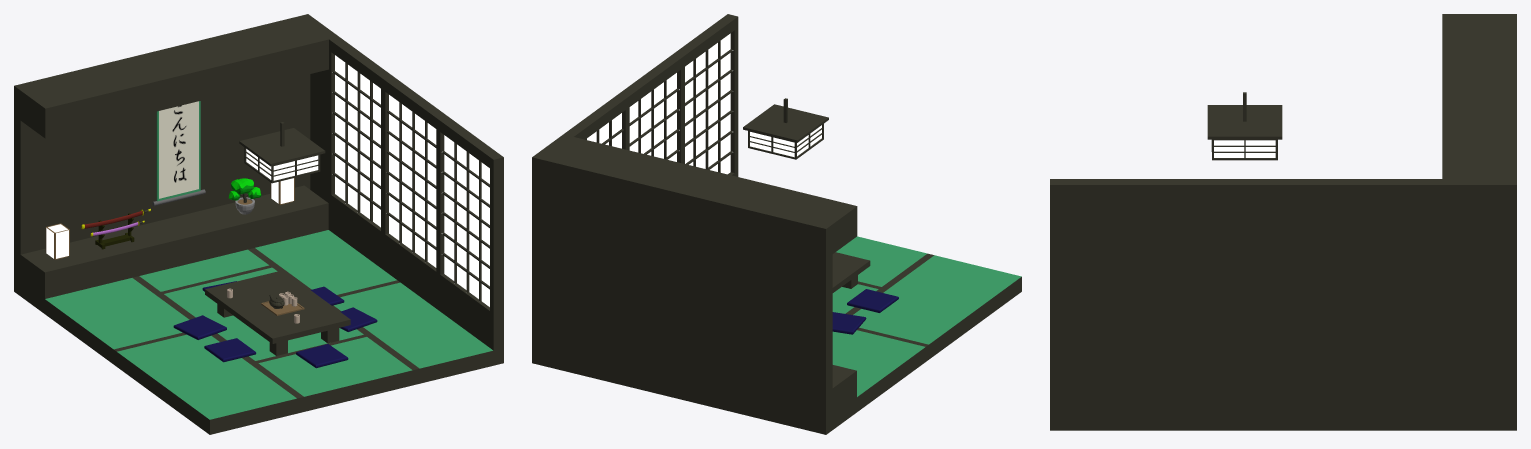
The model's file is japanese room.glb.
3 renders of one model, left to right at view 1: azimuth 30°, elevation 25°; view 2: azimuth 150°, elevation 25°; view 3: azimuth 270°, elevation 25°, orthographic. The views are drawn at different scales.
Parts seen in each view (by area): view 1: Plane.010, Plane.013_Plane.014, Plane.008, Plane, Plane.001, Plane.011, Cube.003_Cube.005, Plane.009, Cube.001_Cube.003, Plane.002, Plane.003, Plane.007 (+3 smaller); view 2: Plane, Plane.013_Plane.014, Plane.008, Plane.010, Cube.003_Cube.005, Plane.001, Plane.003, Plane.002; view 3: Plane, Plane.010, Cube.003_Cube.005.
Part boxes in pixels (x1,y1,x2,y2): Plane.010: (20, 21, 328, 298); Plane.013_Plane.014: (45, 230, 492, 419); Plane.008: (328, 39, 493, 350); Plane: (14, 14, 503, 434); Plane.001: (205, 270, 350, 343); Plane.011: (156, 101, 200, 201); Cube.003_Cube.005: (239, 122, 325, 183); Plane.009: (304, 70, 327, 202); Cube.001_Cube.003: (45, 223, 69, 259); Plane.002: (173, 315, 226, 339); Plane.003: (204, 338, 256, 362); Plane.007: (296, 344, 348, 368); Plane: (532, 14, 1021, 434); Plane.013_Plane.014: (832, 236, 1021, 396); Plane.008: (574, 17, 738, 176); Plane.010: (549, 137, 857, 414); Cube.003_Cube.005: (743, 98, 828, 159); Plane.001: (832, 252, 870, 292); Plane.003: (847, 289, 898, 312); Plane.002: (832, 312, 866, 334); Plane: (1050, 14, 1516, 430); Plane.010: (1442, 14, 1501, 178); Cube.003_Cube.005: (1207, 92, 1282, 160).
Bounding box in the file's own units: 5.99 × 5.18 × 6.91.
19 materials, 1 textured.
